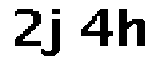2: (12, 5, 44, 50)
4: (75, 5, 115, 52)
h: (116, 6, 149, 52)
j: (43, 4, 68, 60)
